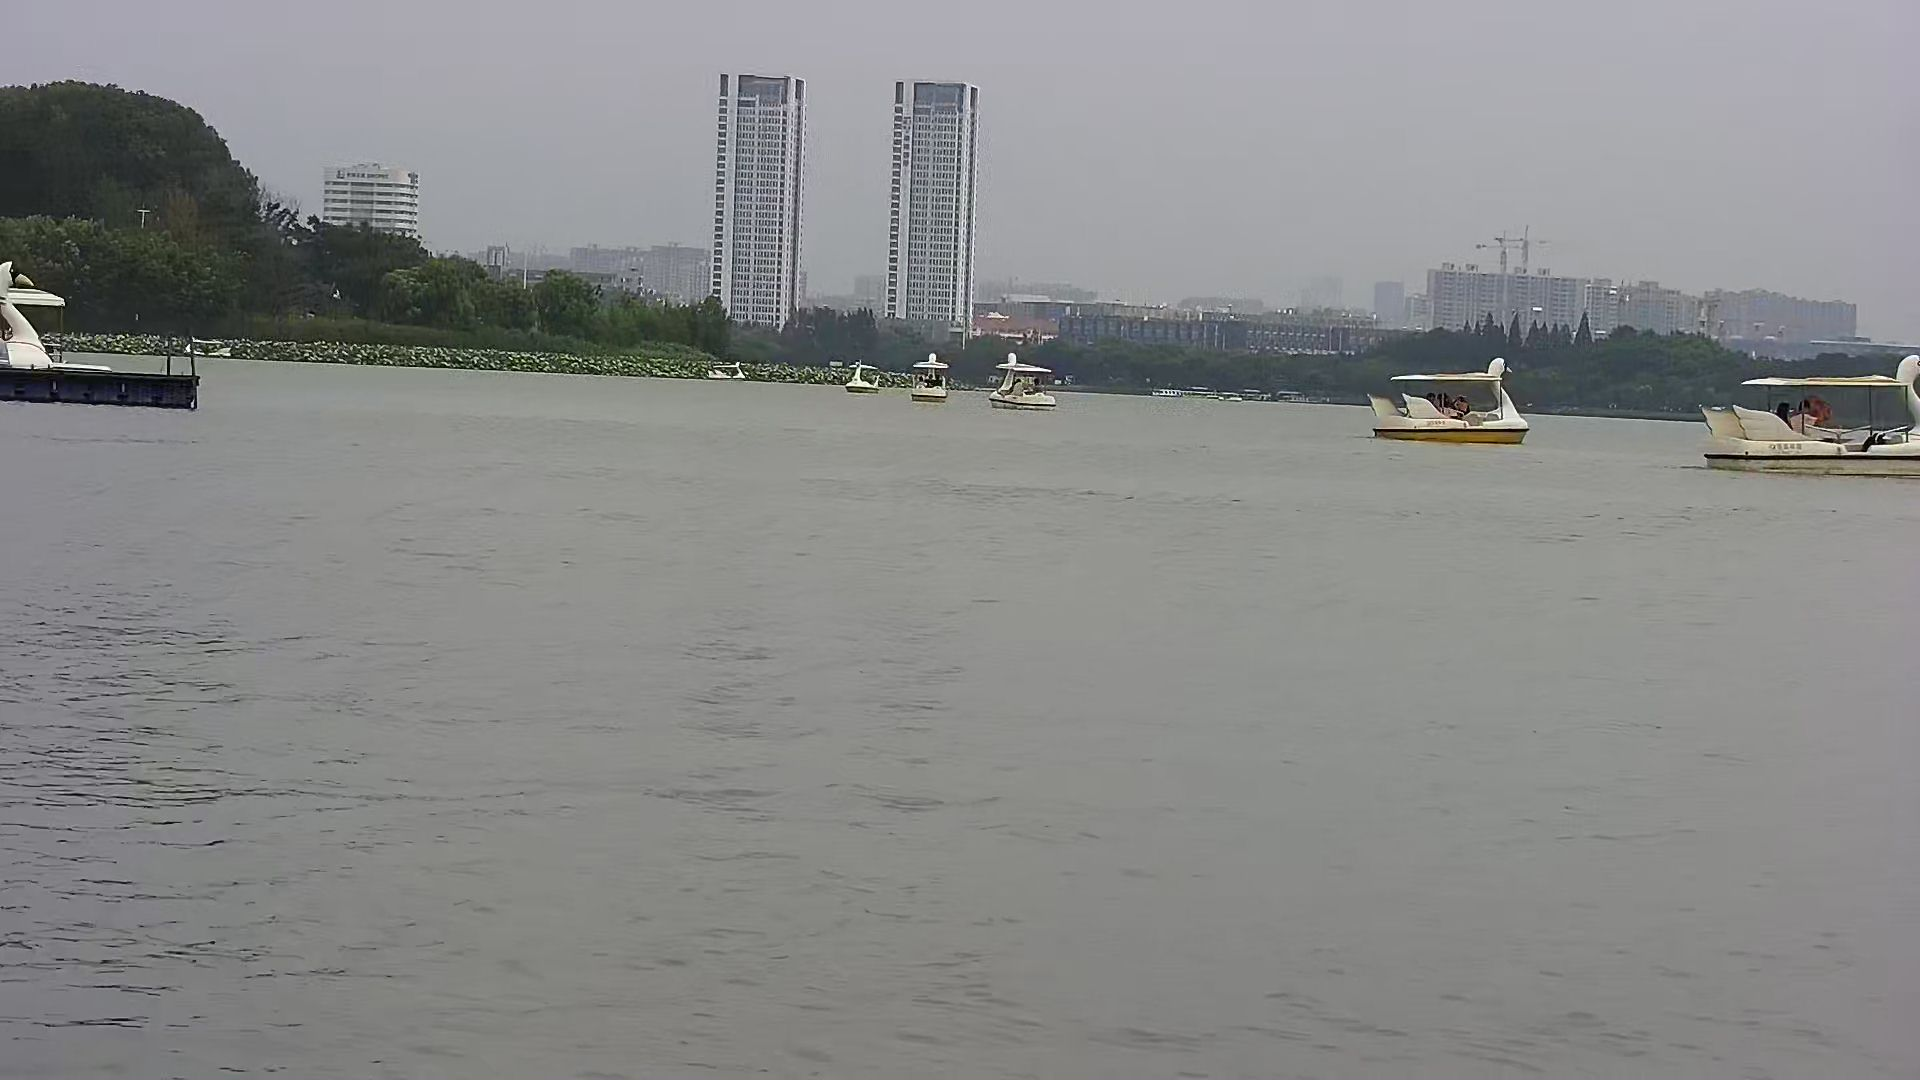boat: (1677, 357, 1920, 489), (1366, 357, 1534, 450), (986, 351, 1058, 415), (909, 351, 956, 410), (847, 364, 880, 401)
